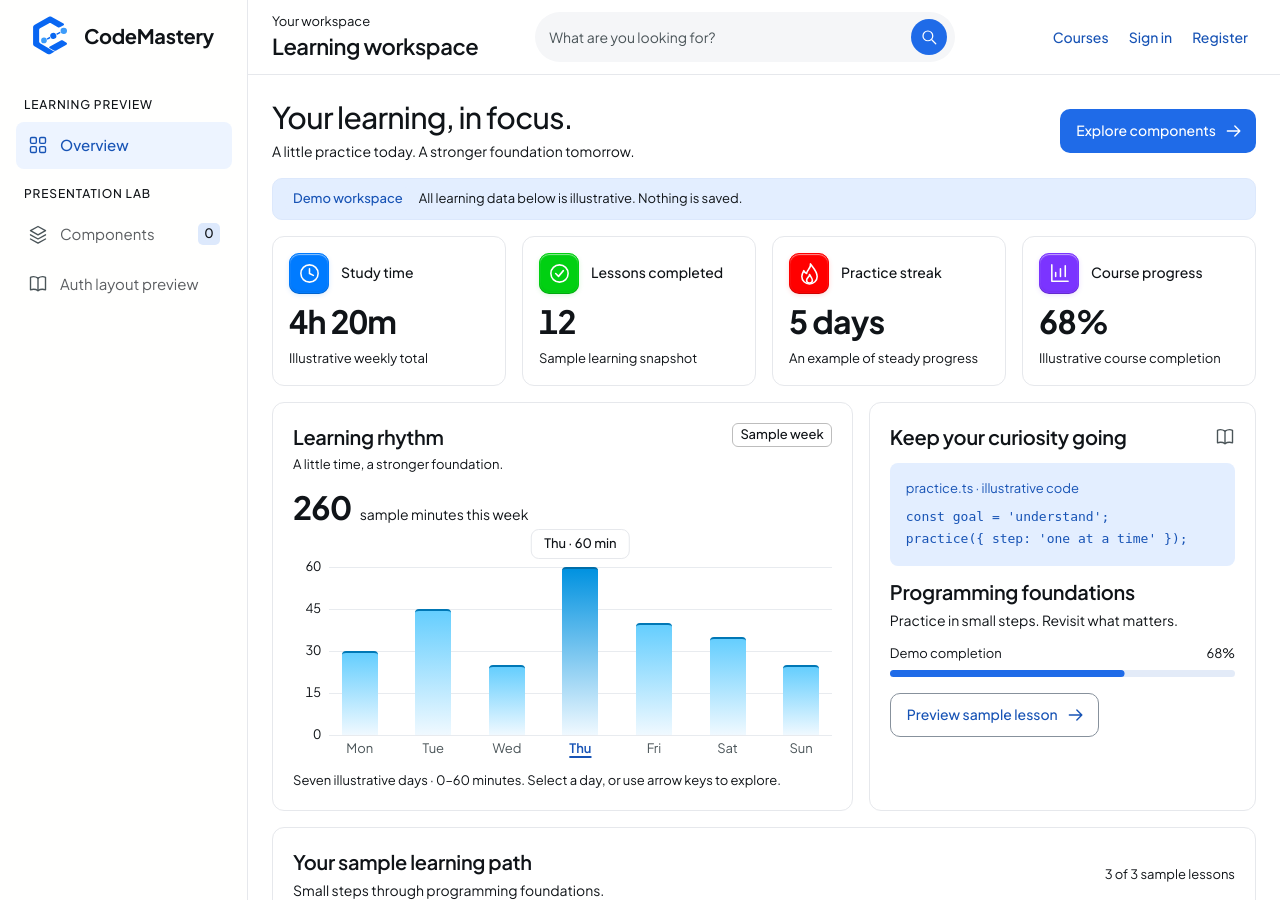
real declarative routing and Profile › keeps the hovered chart tooltip across column gaps without changing the selected day
Click the button "Sun" at point(801, 663), box [770,567,832,759]
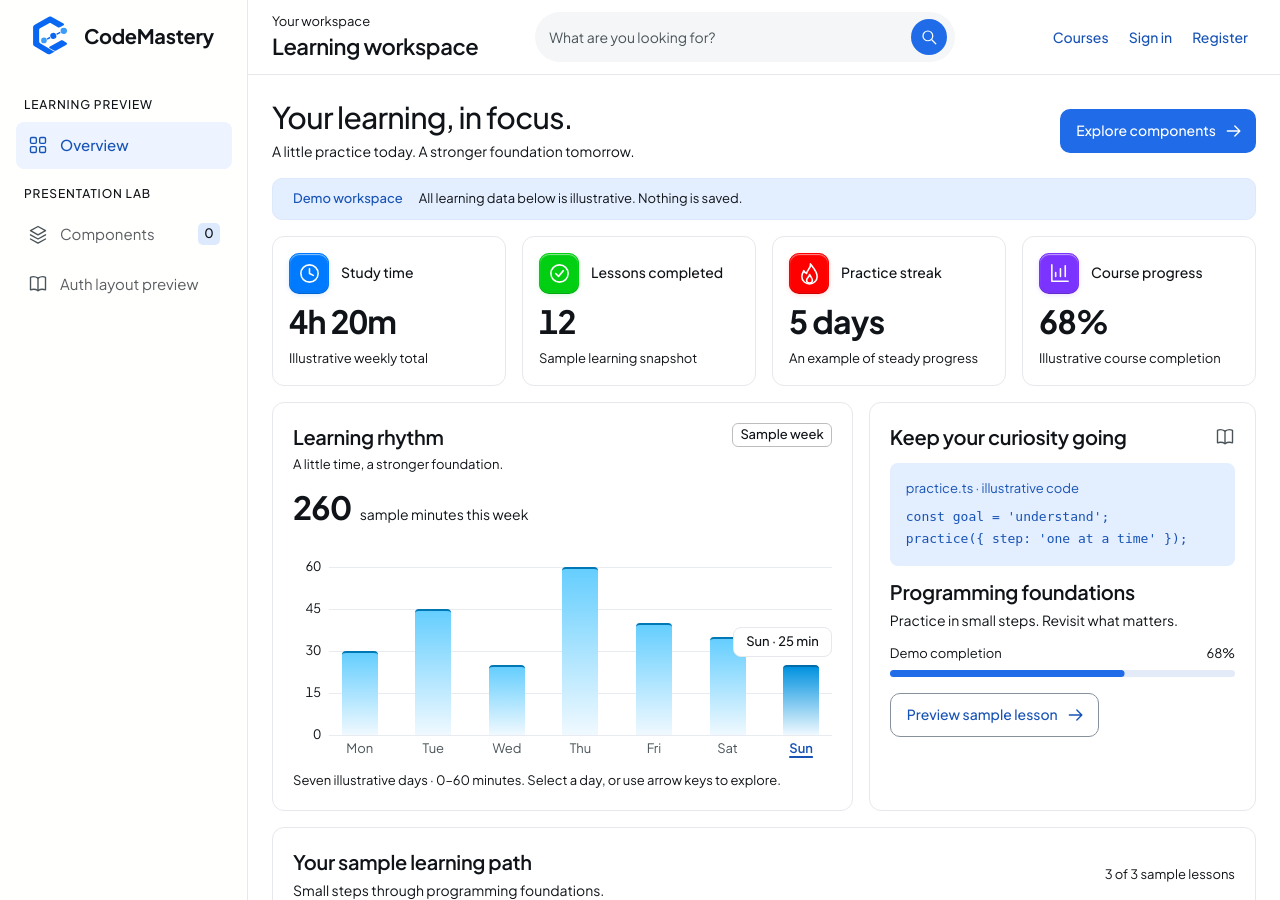
Hover over the button "Tue" at point(433, 663), box [402,567,464,759]
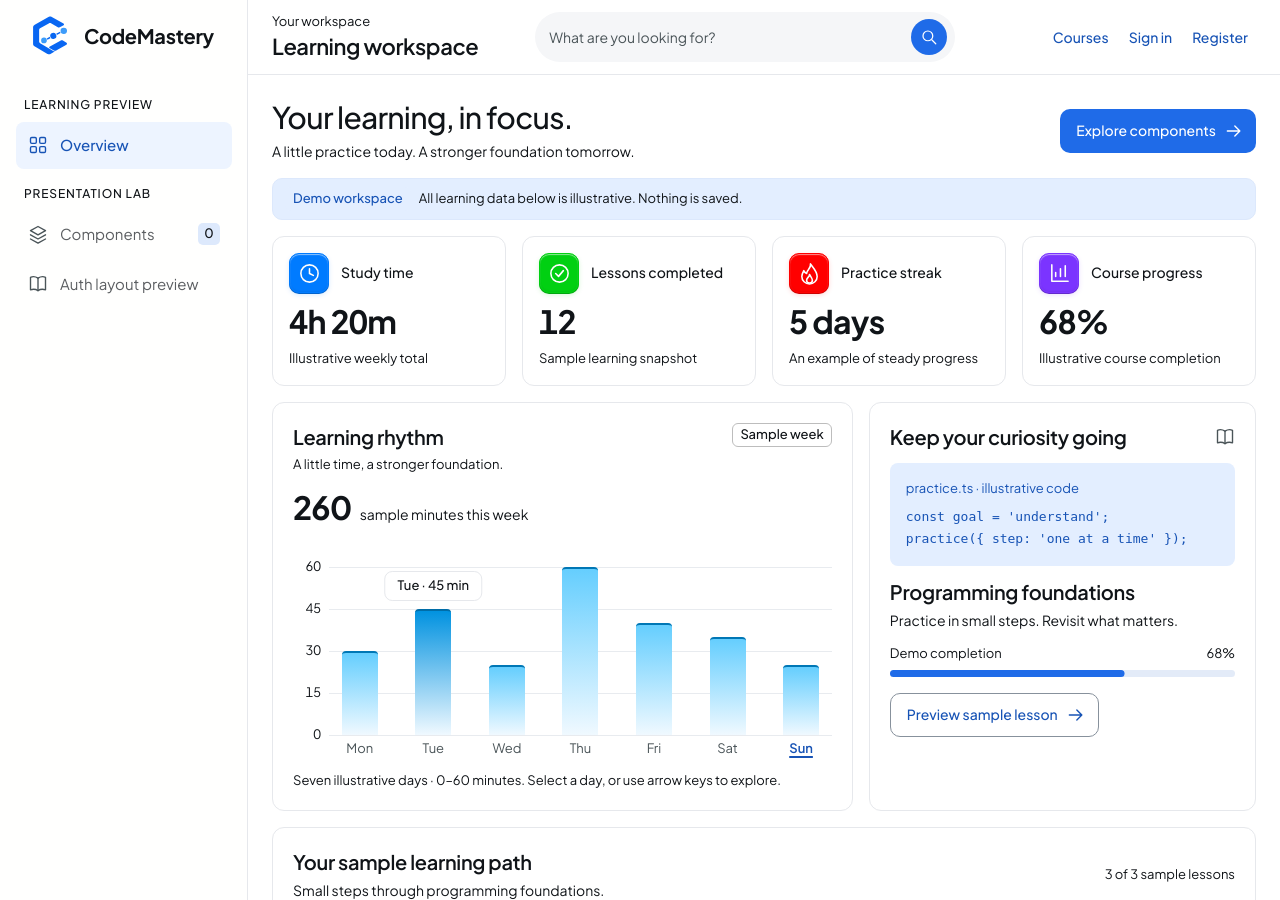
Expected: the tooltip "Tue · 45 min" is shown, [385,571,482,601]
Move the pointer off the button "Tue · 45 min Tue", box [402,567,464,759]
Expected: the tooltip "Tue · 45 min" is shown, [385,571,482,601]
Hover over the button "Wed" at point(507, 663), box [476,567,538,759]
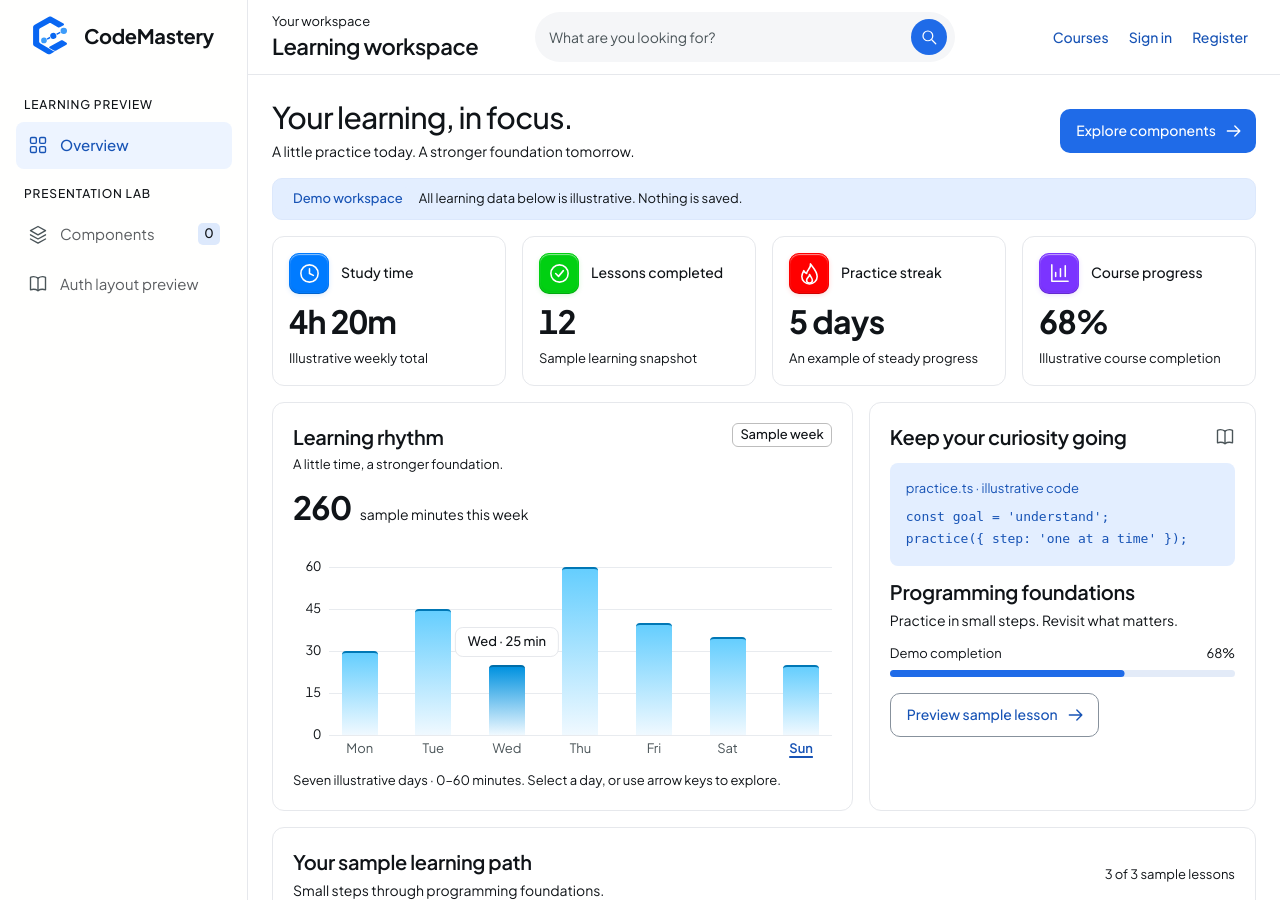
Expected: the tooltip "Wed · 25 min" is shown, [455,627,559,657]
Move the pointer off the button "Wed · 25 min Wed", box [476,567,538,759]
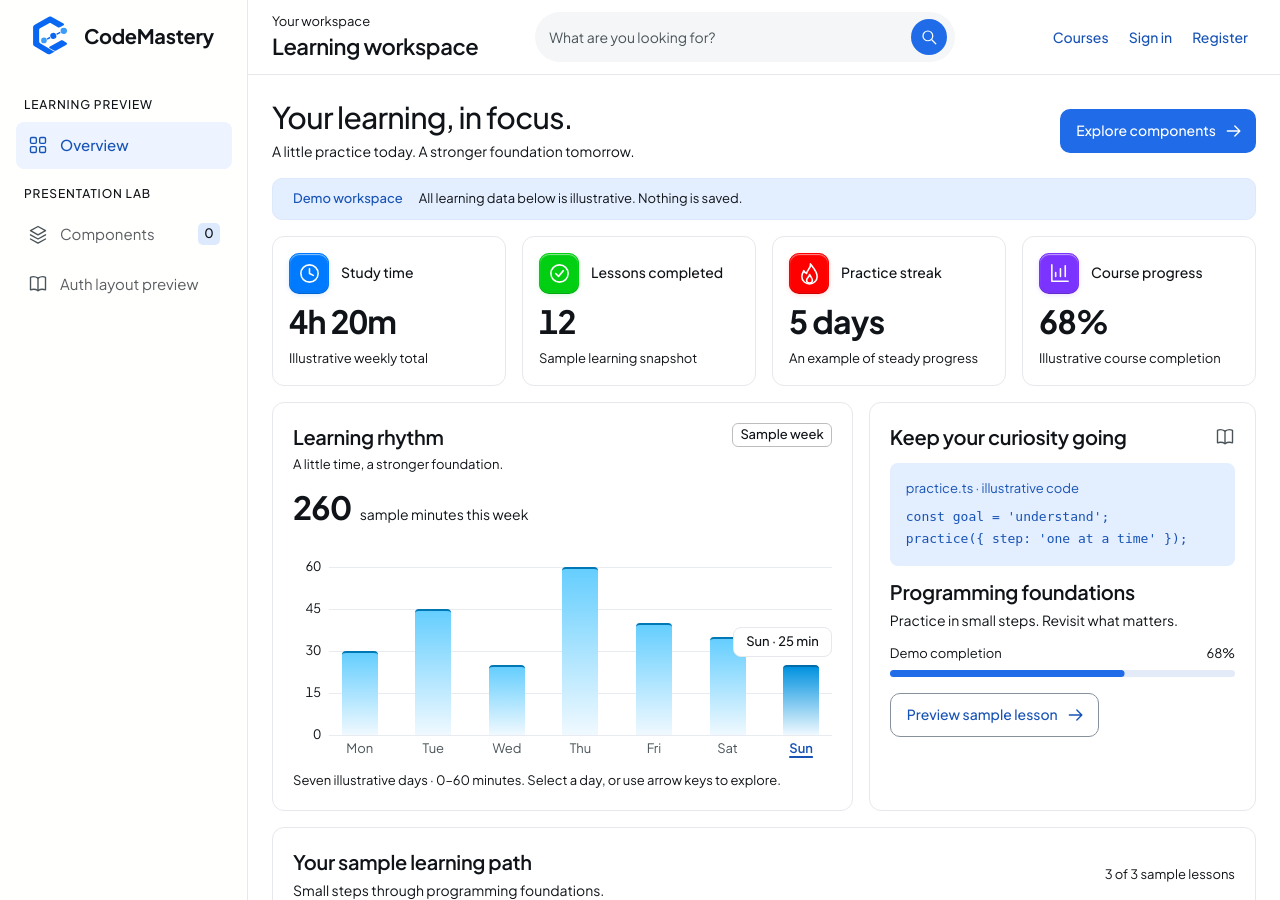
Expected: the tooltip "Sun · 25 min" is shown, [733,627,832,657]
